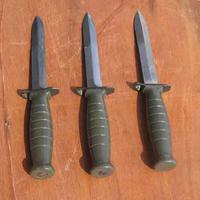knife: (121, 4, 195, 183), (68, 9, 123, 179), (17, 10, 59, 179)
